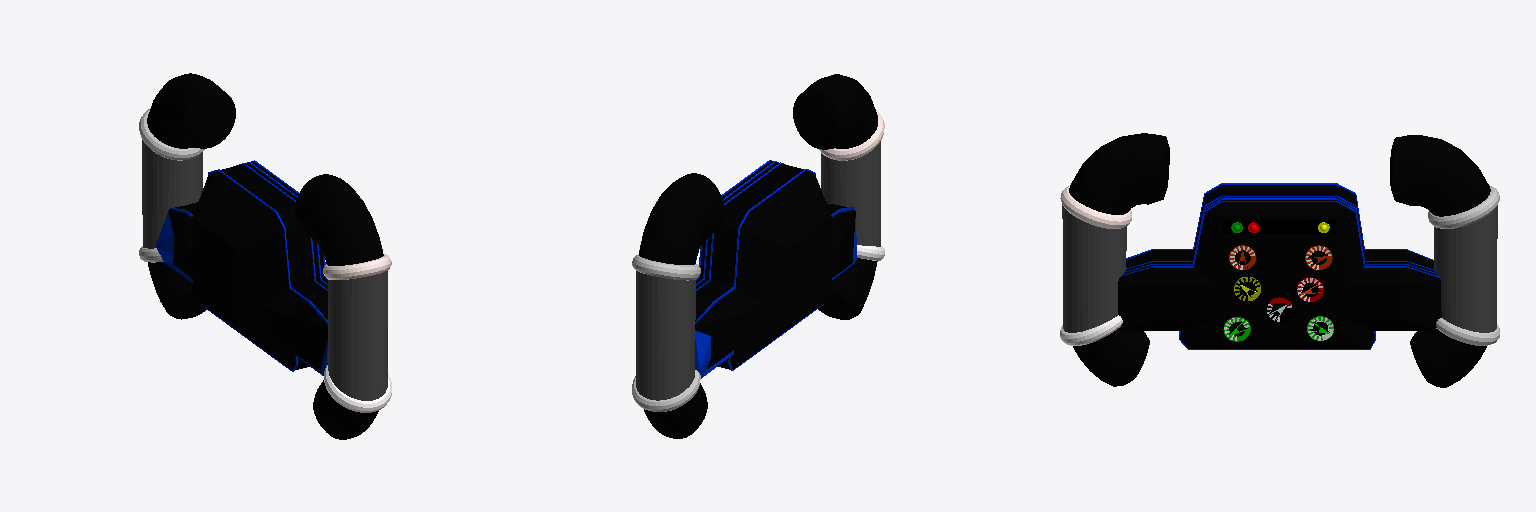
Rendered from p_steering.obj.
3 views of the same model, side by side, from view 1: azimuth 30°, elevation 25°; view 2: azimuth 150°, elevation 25°; view 3: azimuth 270°, elevation 25° (orthographic).
Visible parts, largest first — view 1: Cube, 円柱, 円柱.002, 円柱.001, 立方体, 円柱.003, 立方体.018, Torus, Torus.001, Torus.002; view 2: Cube, 円柱.001, 円柱, 円柱.003, 立方体, 円柱.002, 立方体.018, Torus.002, Torus.003, Torus; view 3: Cube, 立方体, 円柱, 円柱.001, 円柱.003, 円柱.002, 立方体.019, Torus, Torus.002, Torus.003, Torus.001.
Boxes of the visible parts, box(x1,y1,x2,y2) form: Cube: box(193, 162, 325, 369); 円柱: box(295, 174, 383, 439); 円柱.002: box(328, 271, 387, 400); 円柱.001: box(147, 73, 235, 319); 立方体: box(168, 202, 327, 372); 円柱.003: box(142, 140, 202, 248); 立方体.018: box(156, 208, 327, 375); Torus: box(323, 254, 391, 279); Torus.001: box(324, 365, 391, 412); Torus.002: box(139, 108, 204, 160); Cube: box(700, 161, 831, 369); 円柱.001: box(639, 173, 723, 438); 円柱: box(793, 74, 877, 319); 円柱.003: box(636, 271, 695, 400); 立方体: box(695, 202, 855, 368); 円柱.002: box(821, 141, 880, 246); 立方体.018: box(695, 207, 857, 378); Torus.002: box(632, 254, 700, 280); Torus.003: box(632, 370, 700, 411); Torus: box(819, 110, 884, 160); Cube: box(1180, 185, 1374, 348); 立方体: box(1118, 250, 1441, 330); 円柱: box(1069, 133, 1169, 386); 円柱.001: box(1390, 135, 1490, 387); 円柱.003: box(1434, 205, 1497, 332); 円柱.002: box(1062, 204, 1126, 332); 立方体.019: box(1222, 220, 1335, 232); Torus: box(1060, 186, 1131, 228); Torus.002: box(1428, 185, 1499, 228); Torus.003: box(1436, 318, 1499, 345); Torus.001: box(1060, 315, 1122, 345).
Size of the model in its own units: 0.9813 by 2.8 by 4.49.